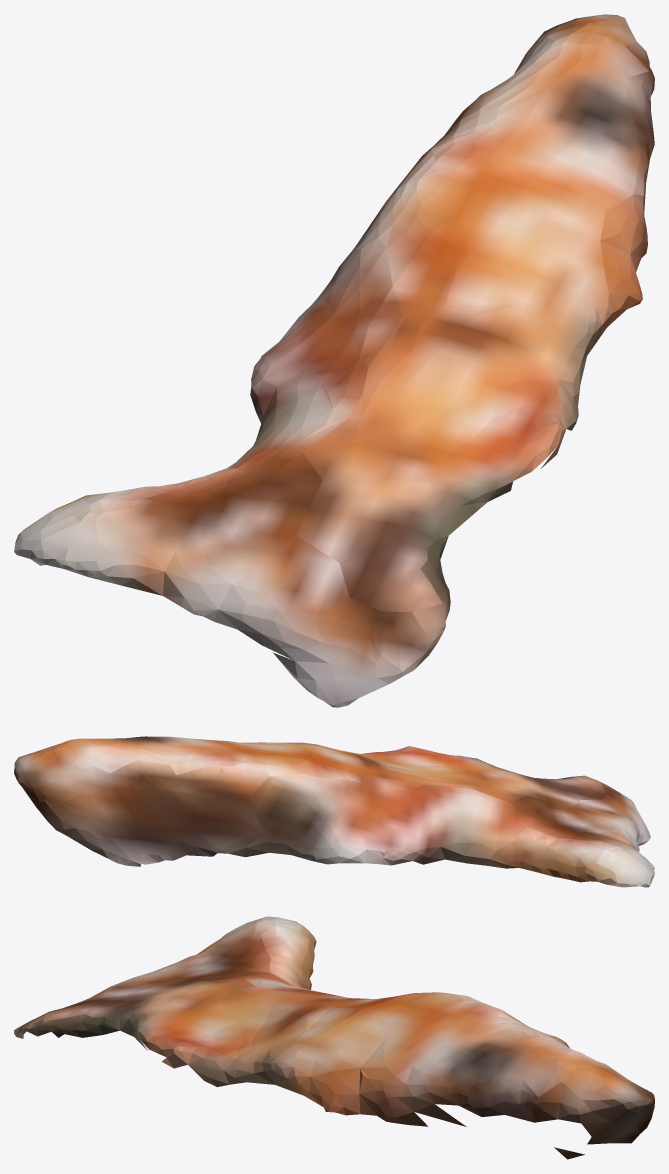
The model's file is medaka-fish.glb.
The picture shows the model from 3 angles, top to bottom: view 1: azimuth 30°, elevation 25°; view 2: azimuth 150°, elevation 25°; view 3: azimuth 270°, elevation 25°; orthographic projection. The views are drawn at different scales.
Parts seen in each view (by area): view 1: mesh; view 2: mesh; view 3: mesh.
Boxes of the visible parts, left/top/right/bottom form: mesh: left=14, top=14, right=654, bottom=707; mesh: left=14, top=736, right=654, bottom=887; mesh: left=14, top=916, right=654, bottom=1159.
Size of the model in its own units: 0.0349 by 0.0107 by 0.0309.
1 material, 1 textured.
